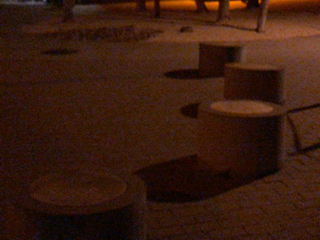Obstacle: (12, 146, 167, 236), (190, 100, 294, 172)
